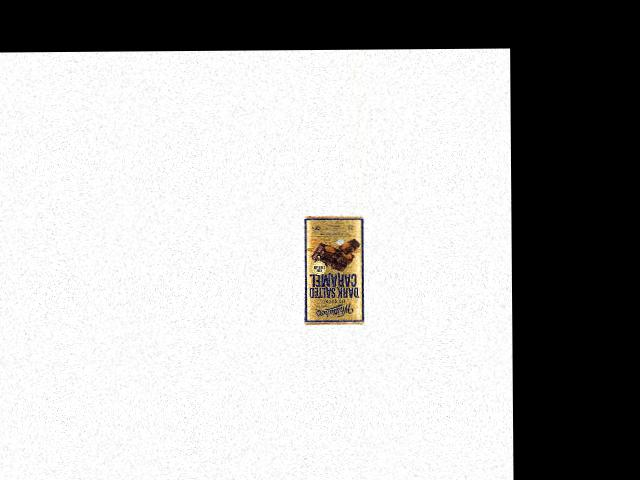chocolate: (299, 213, 366, 323)
